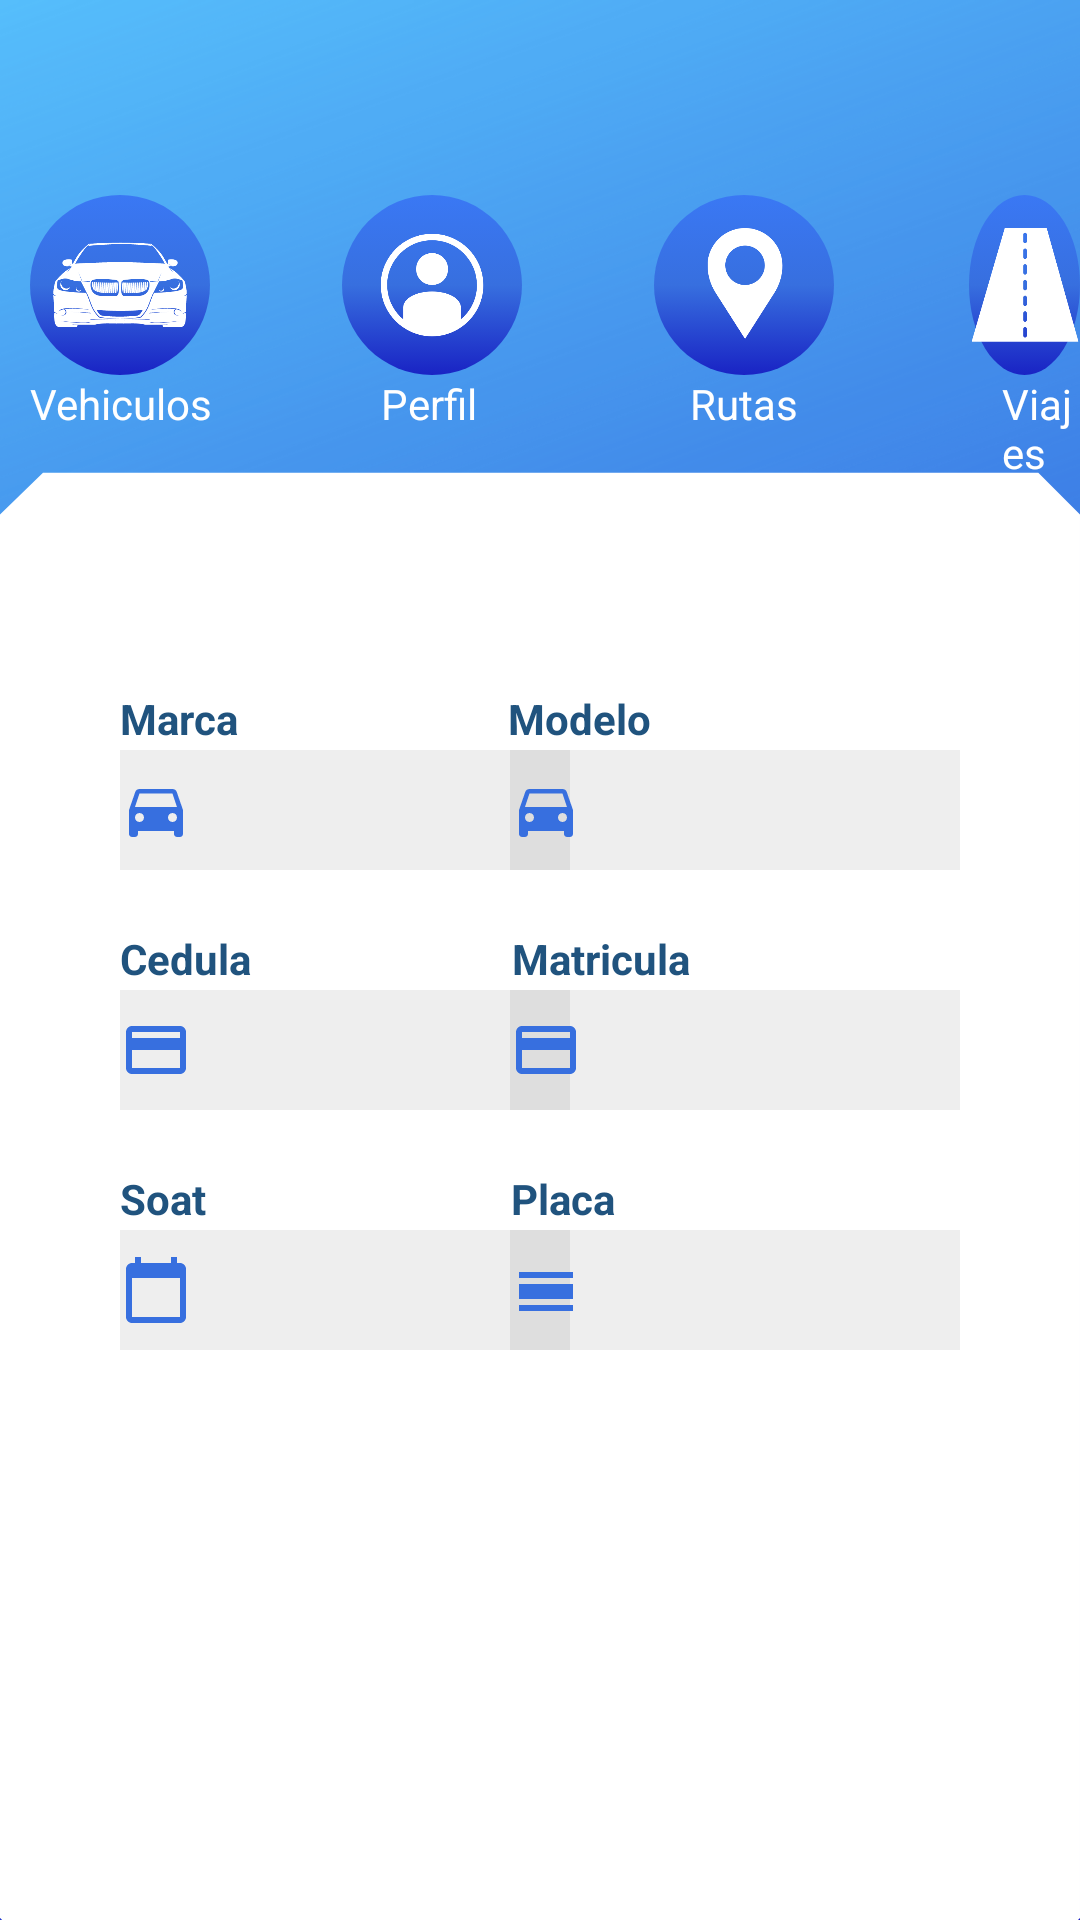

Where to tap for icons on this 1080 × 1920 app screen, as (x,y):
pointer: (744,285)
road: (1024,301)
